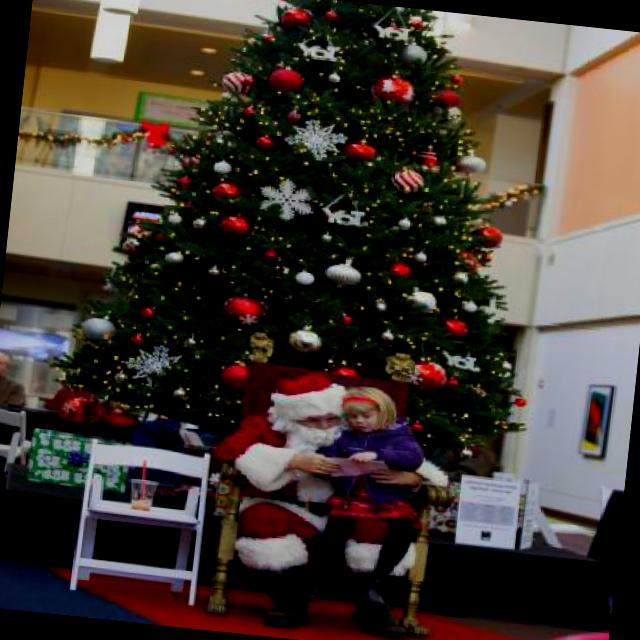Person: (194, 363, 464, 640), (0, 346, 28, 483)
